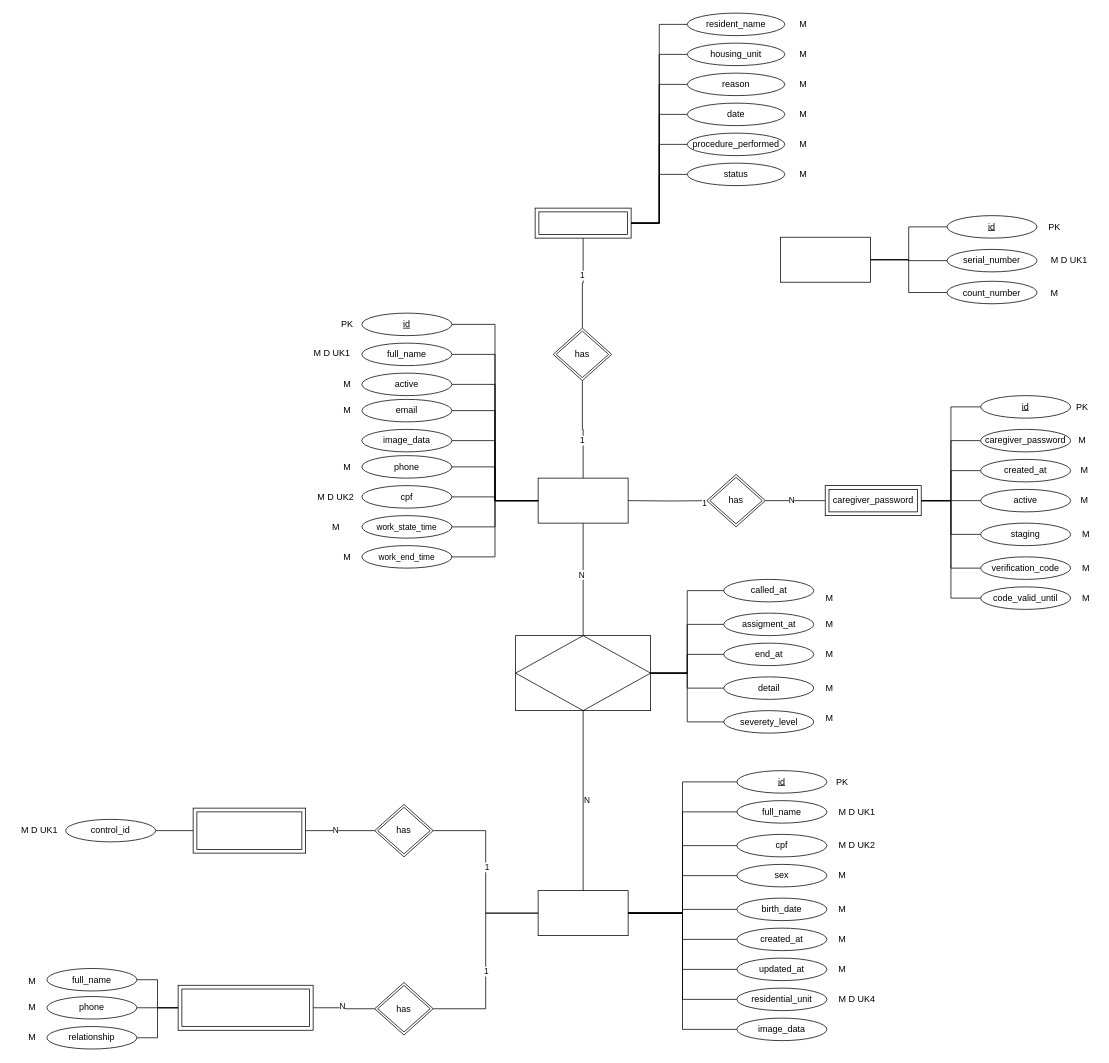
The diagram is 1109 pixels wide and 1063 high, and some of its shapes have lost their labels. The shapes that lost their labels are listed below. From the top down, each one's centre as x and y in pixels, then its label:
At point (582, 222): "requests".
At point (825, 259): "alarm".
At point (582, 500): "caregiver".
At point (583, 673): "caregiver_assigment_resident".
At point (249, 830): "control_resident".
At point (582, 913): "resident".
At point (245, 1007): "resident_emergency_contact".
